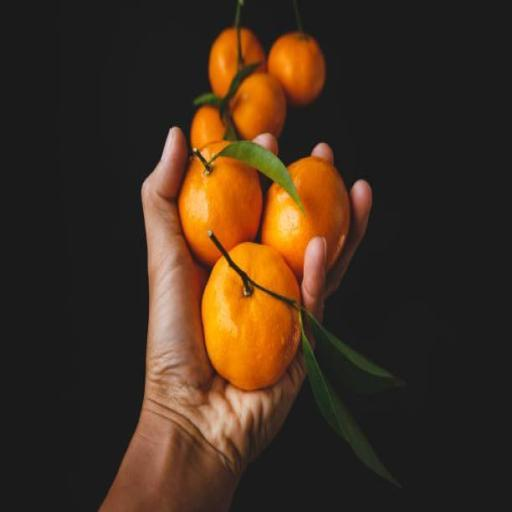orange: (202, 258, 300, 390), (262, 157, 350, 279), (179, 156, 262, 266)
